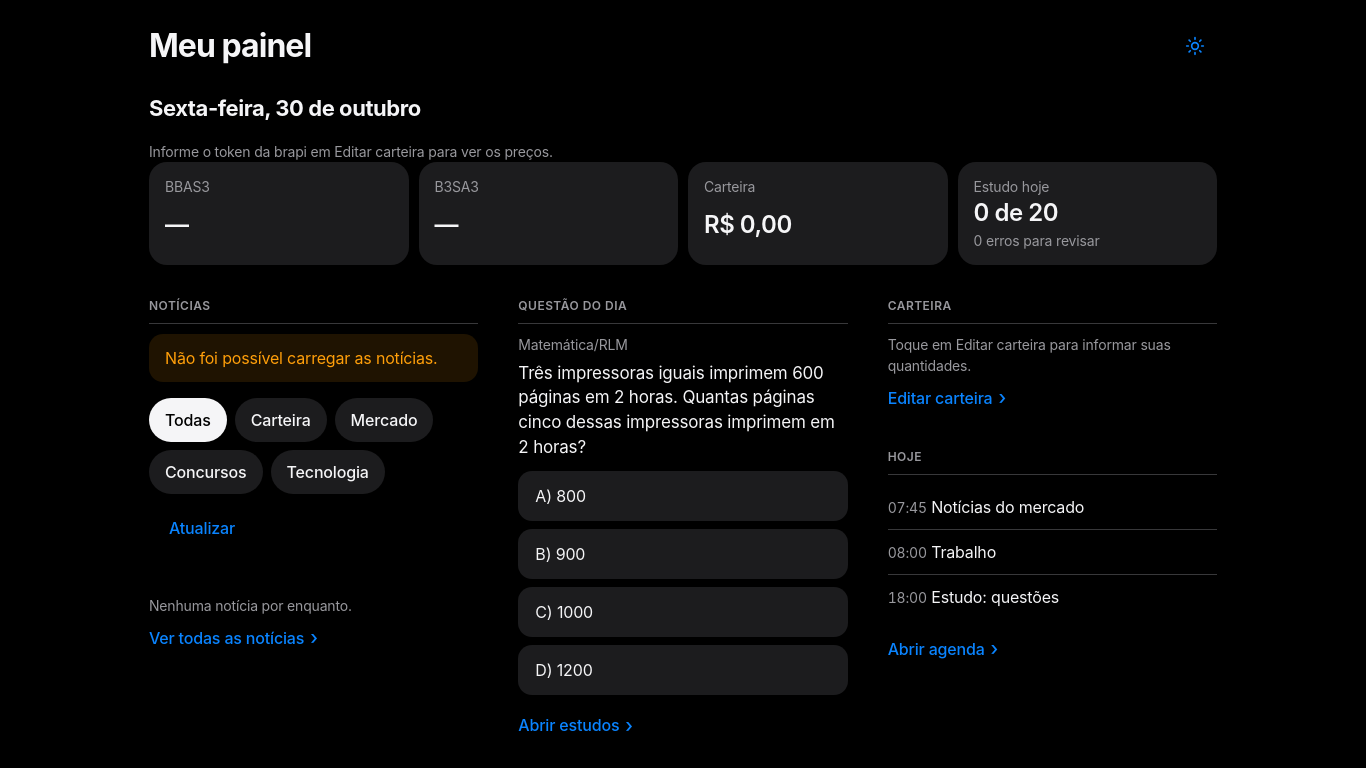
Test case: botão de tema troca o preto pelo branco e lembra a escolha
Click the button named "Mudar para o tema claro".
click(1195, 46)  # box [1173,24,1217,68]
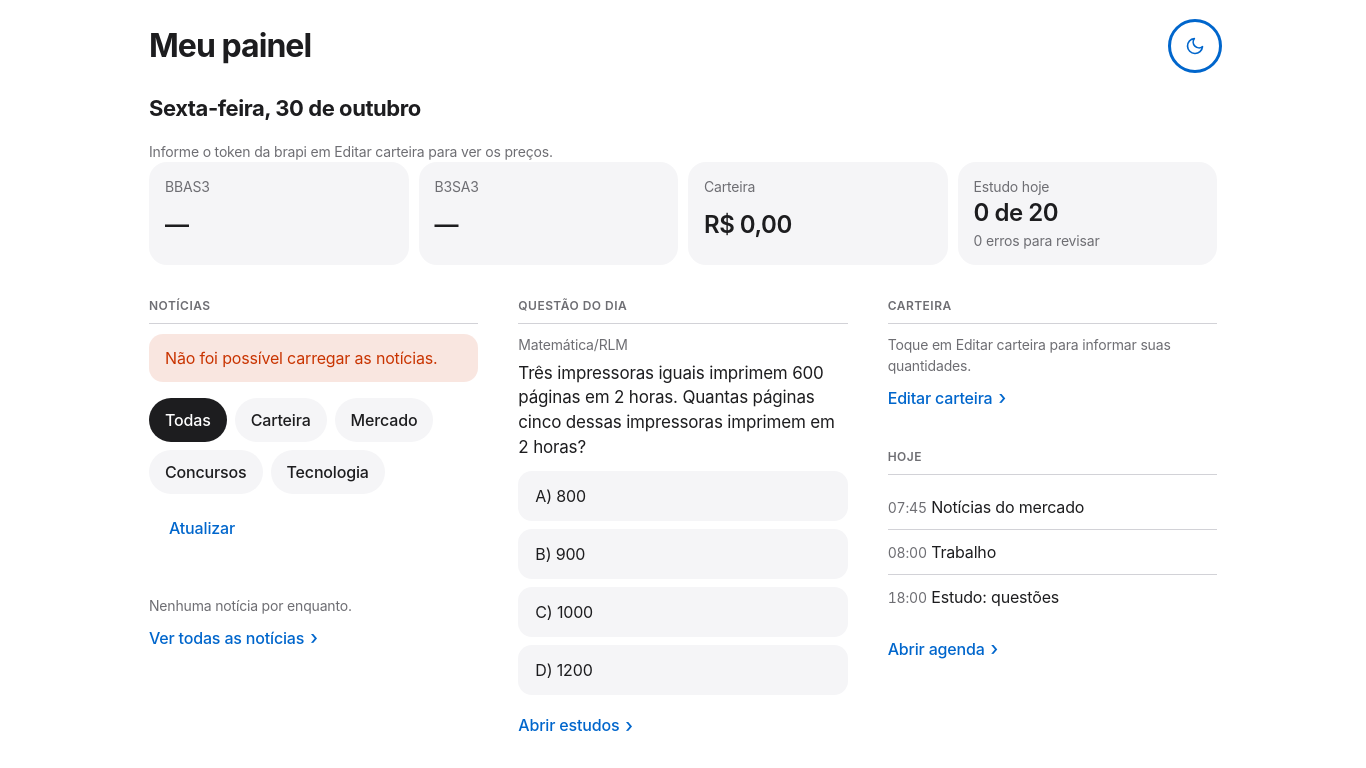
Now the button named "Mudar para o tema escuro" is shown, box [1173,24,1217,68]
